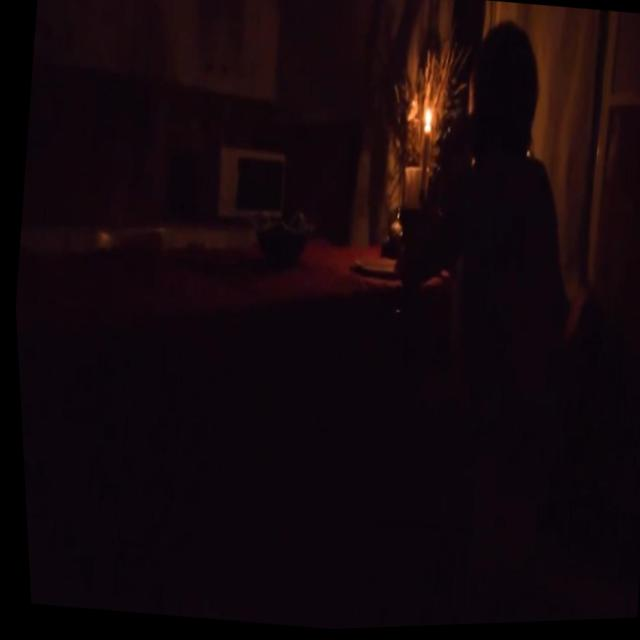fire: (418, 104, 436, 135)
